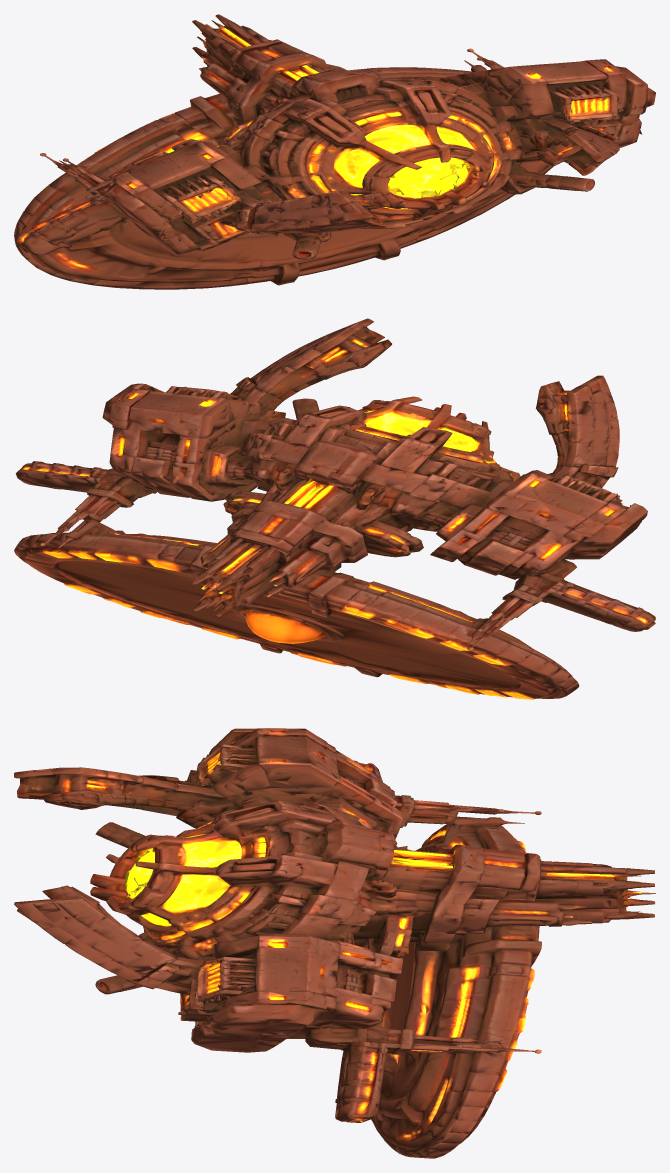
The model's file is the-heliophage-v1-approved.glb.
3 renders of one model, top to bottom at view 1: azimuth 30°, elevation 25°; view 2: azimuth 150°, elevation 25°; view 3: azimuth 270°, elevation 25°, orthographic. The views are drawn at different scales.
Parts seen in each view (by area): view 1: heliophage_hull, heliophage_pod_left, heliophage_pod_right, heliophage_heart, heliophage_prow, heliophage_pod_left_wreck, heliophage_pod_right_wreck; view 2: heliophage_hull, heliophage_prow, heliophage_pod_left; view 3: heliophage_hull, heliophage_pod_right, heliophage_prow, heliophage_pod_left, heliophage_pod_right_wreck, heliophage_heart.
Part boxes in pixels (left/top/right/bottom): heliophage_hull: left=14, top=14, right=655, bottom=289; heliophage_pod_left: left=142, top=172, right=246, bottom=249; heliophage_pod_right: left=549, top=76, right=638, bottom=136; heliophage_heart: left=388, top=157, right=478, bottom=197; heliophage_prow: left=261, top=53, right=324, bottom=93; heliophage_pod_left_wreck: left=150, top=172, right=242, bottom=250; heliophage_pod_right_wreck: left=550, top=78, right=642, bottom=134; heliophage_hull: left=14, top=318, right=655, bottom=699; heliophage_prow: left=262, top=480, right=346, bottom=518; heliophage_pod_left: left=557, top=475, right=626, bottom=507; heliophage_hull: left=14, top=728, right=655, bottom=1158; heliophage_pod_right: left=196, top=954, right=255, bottom=1037; heliophage_prow: left=387, top=845, right=475, bottom=880; heliophage_pod_left: left=196, top=732, right=255, bottom=788; heliophage_pod_right_wreck: left=193, top=953, right=254, bottom=1043; heliophage_heart: left=126, top=849, right=154, bottom=898.
Size of the model in its own units: 16 by 4.83 by 12.26.
2 materials, 2 textured.
